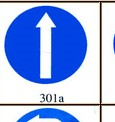Go_straight: (3, 4, 89, 85)
